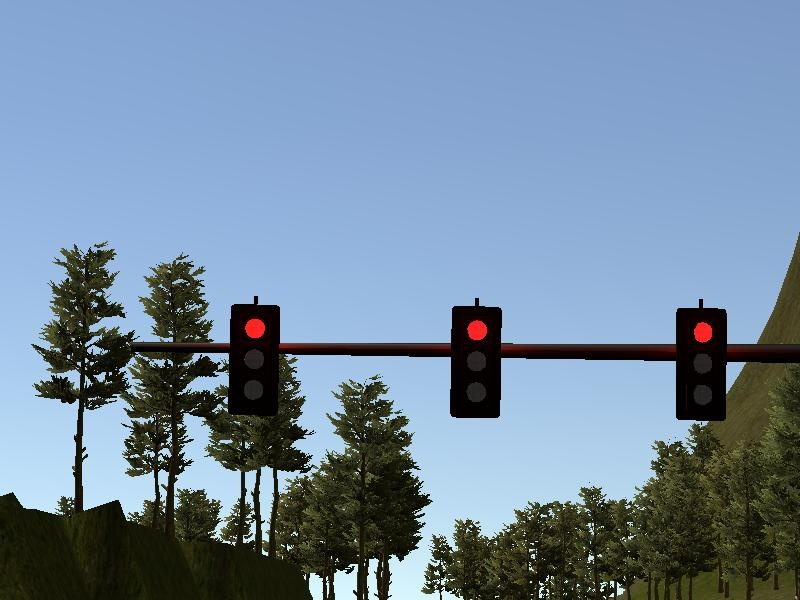red: (673, 306, 730, 423), (447, 304, 502, 421), (227, 303, 281, 417)
